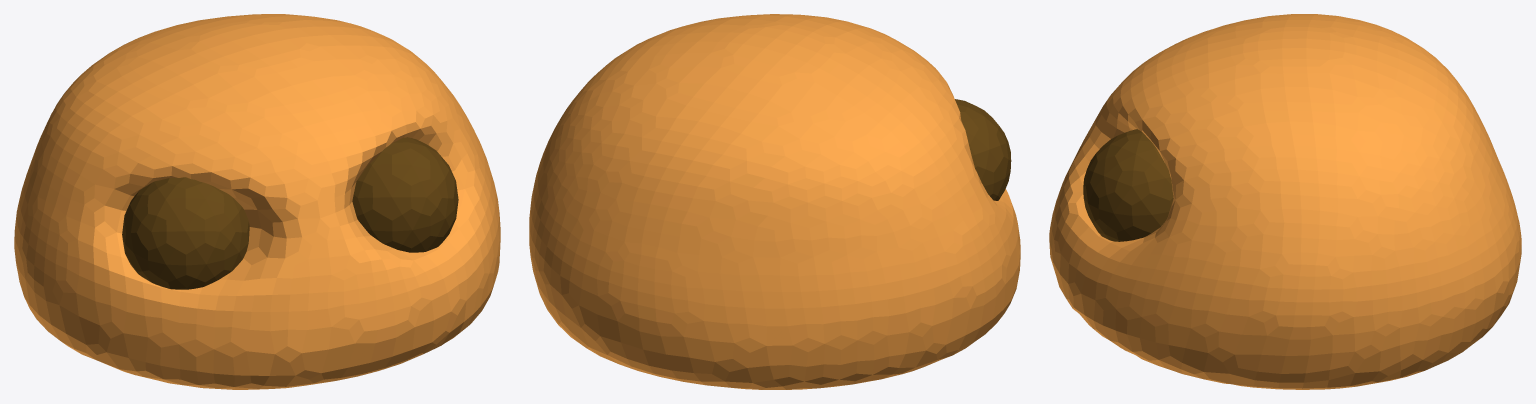
File: DoughStart.fbx
3 views of the same model, side by side, from view 1: azimuth 30°, elevation 25°; view 2: azimuth 150°, elevation 25°; view 3: azimuth 270°, elevation 25° (orthographic). The views are drawn at different scales.
Parts seen in each view (by area): view 1: Sphere; view 2: Sphere; view 3: Sphere.
Part boxes in pixels (x1=…): Sphere: x1=14, y1=14, x2=500, y2=389; Sphere: x1=529, y1=14, x2=1020, y2=389; Sphere: x1=1049, y1=14, x2=1521, y2=389.
Bounding box in the file's own units: 2.07 × 1.28 × 2.01.
